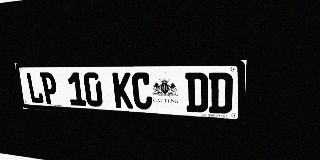0: (83, 72, 103, 107)
1: (66, 72, 86, 106)
C: (131, 72, 153, 110)
D: (209, 73, 233, 114), (185, 72, 208, 113)
K: (112, 72, 133, 109)
L: (25, 72, 44, 104)
P: (40, 72, 59, 105)
